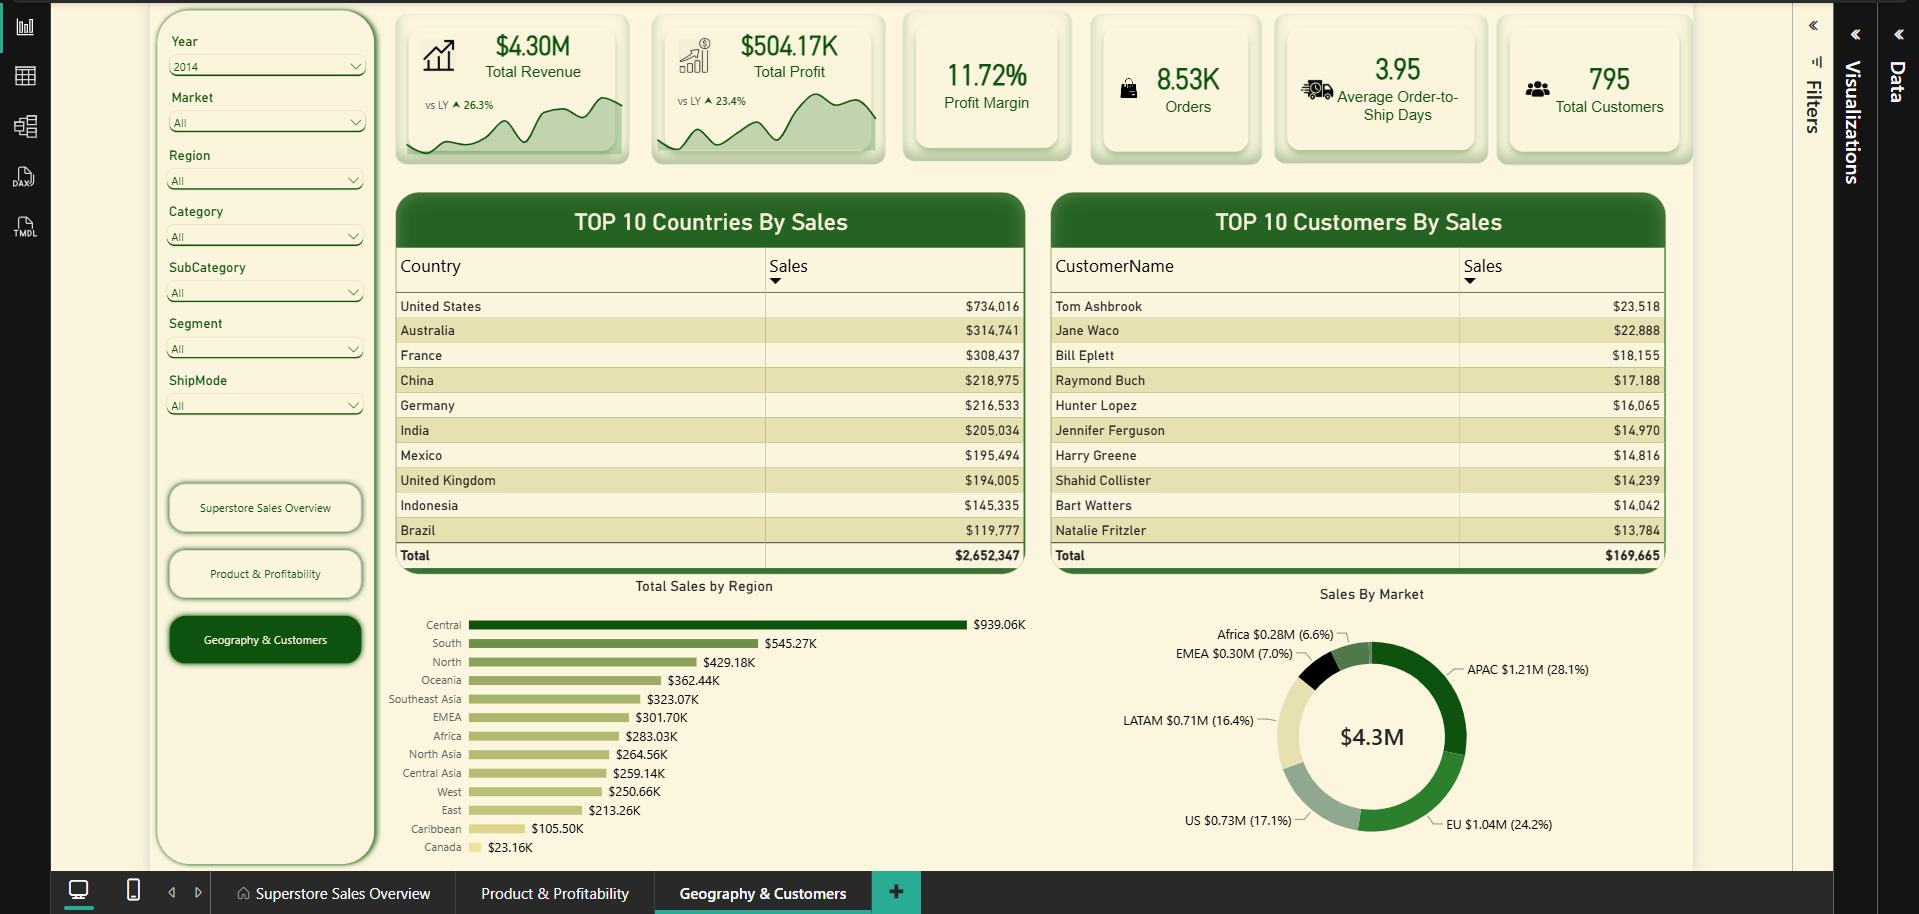

Layout of this report page (visuals, bound fields, positions):
{"tool":"powerbi","page":{"name":"Geography & Customers","canvas":[1920,1080],"ordinal":2},"visuals":[{"type":"shape","box":[0,0,288,1079.9],"z":0},{"type":"slicer","fields":{"Values":["dw DimDate.Year"]},"box":[18,37.8,255.6,70.2],"z":1000},{"type":"slicer","fields":{"Values":["dw DimGeography.Market"]},"box":[18,108,255.6,70.2],"z":2000},{"type":"slicer","fields":{"Values":["dw DimGeography.Region"]},"box":[16.2,178.2,255.6,70.2],"z":3000},{"type":"slicer","fields":{"Values":["dw DimProduct.Category"]},"box":[16.2,248.4,255.6,70.2],"z":4000},{"type":"slicer","fields":{"Values":["dw DimProduct.SubCategory"]},"box":[16.2,318.6,255.6,70.2],"z":5000},{"type":"slicer","fields":{"Values":["dw DimCustomer.Segment"]},"box":[16.2,388.8,255.6,70.2],"z":6000},{"type":"slicer","fields":{"Values":["dw DimShipping.ShipMode"]},"box":[16.2,458.9,255.6,66.6],"z":7000},{"type":"pageNavigator","box":[17,590.4,253.5,238.2],"z":8000},{"type":"barChart","fields":{"Category":["dw DimGeography.Region"],"Y":["dw FactSales.Total Sales"]},"box":[1037.8,212.7,847.3,260.3],"z":9000},{"type":"donutChart","title":"Sales By Market","fields":{"Y":["dw FactSales.Total Sales"],"Category":["dw DimGeography.Market"]},"box":[303.5,200.6,734.3,259.9],"z":10000},{"type":"tableEx","title":"TOP 10 Countries By Sales","fields":{"Values":["dw DimGeography.Country","dw FactSales.Total Sales"]},"box":[303.5,477.9,781.4,249.4],"z":11000},{"type":"barChart","title":"Sales By ShipMode","fields":{"Category":["dw DimShipping.ShipMode"],"Y":["dw FactSales.Total Sales"]},"box":[1093.6,467.4,826.7,259.9],"z":12000},{"type":"tableEx","title":"TOP 10 Customers By Sales","fields":{"Values":["dw DimCustomer.CustomerName","Sum(dw FactSales.Sales)","Sum(dw FactSales.Profit)","dw FactSales.Profit Margin %"]},"box":[340.1,709.9,1580.8,370.5],"z":13000},{"type":"cardVisual","fields":{"Data":["dw FactSales.Total Sales"]},"box":[304.4,14.4,291.8,187.3],"z":14000},{"type":"lineChart","fields":{"Y":["dw FactSales.Total Sales"],"Category":["dw DimDate.Month"]},"box":[270.2,108.1,326,79.2],"z":15000},{"type":"cardVisual","fields":{"Data":["dw FactSales.Total Profit"]},"box":[623.2,14.4,291.8,187.3],"z":16000},{"type":"lineChart","fields":{"Y":["dw FactSales.Total Profit"],"Category":["dw DimDate.Month"]},"box":[596.5,104.7,315.2,79.2],"z":16001},{"type":"cardVisual","fields":{"Data":["dw FactSales.Profit Margin %"]},"box":[943.8,14.4,291.8,187.3],"z":16002},{"type":"cardVisual","fields":{"Data":["dw FactSales.Orders"]},"box":[1266.2,14.4,291.8,187.3],"z":16003},{"type":"cardVisual","fields":{"Data":["dw FactSales.Total Customers"]},"box":[1594,14.4,291.8,187.3],"z":16004}]}

Visuals, with their boxes on the page's 1920x1080 design canvas (x1, y1, x2, y2). These are canvas units, not pixel positions in the 1919x914 screenshot, which may show the page scaled, cropped or inside an application window:
shape: BBox(0, 0, 288, 1080)
slicer - dw DimDate.Year: BBox(18, 38, 274, 108)
slicer - dw DimGeography.Market: BBox(18, 108, 274, 178)
slicer - dw DimGeography.Region: BBox(16, 178, 272, 248)
slicer - dw DimProduct.Category: BBox(16, 248, 272, 319)
slicer - dw DimProduct.SubCategory: BBox(16, 319, 272, 389)
slicer - dw DimCustomer.Segment: BBox(16, 389, 272, 459)
slicer - dw DimShipping.ShipMode: BBox(16, 459, 272, 526)
pageNavigator: BBox(17, 590, 270, 829)
barChart - dw DimGeography.Region x dw FactSales.Total Sales: BBox(1038, 213, 1885, 473)
"Sales By Market" donutChart: BBox(304, 201, 1038, 460)
"TOP 10 Countries By Sales" tableEx: BBox(304, 478, 1085, 727)
"Sales By ShipMode" barChart: BBox(1094, 467, 1920, 727)
"TOP 10 Customers By Sales" tableEx: BBox(340, 710, 1921, 1080)
cardVisual - dw FactSales.Total Sales: BBox(304, 14, 596, 202)
lineChart - dw FactSales.Total Sales x dw DimDate.Month: BBox(270, 108, 596, 187)
cardVisual - dw FactSales.Total Profit: BBox(623, 14, 915, 202)
lineChart - dw FactSales.Total Profit x dw DimDate.Month: BBox(596, 105, 912, 184)
cardVisual - dw FactSales.Profit Margin %: BBox(944, 14, 1236, 202)
cardVisual - dw FactSales.Orders: BBox(1266, 14, 1558, 202)
cardVisual - dw FactSales.Total Customers: BBox(1594, 14, 1886, 202)
